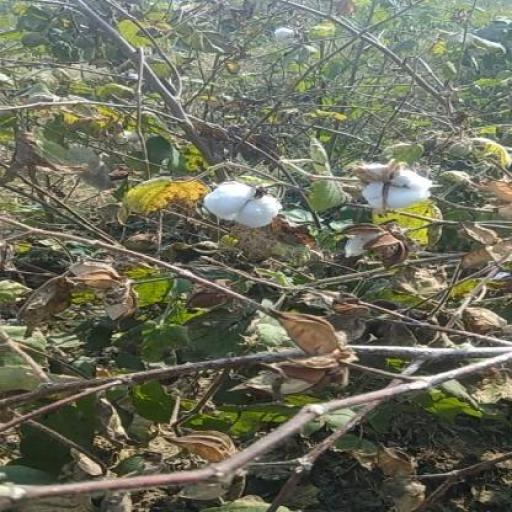cotton_ready: (323, 152, 444, 238), (186, 180, 301, 248)
